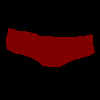mutande: (6, 27, 95, 67)
